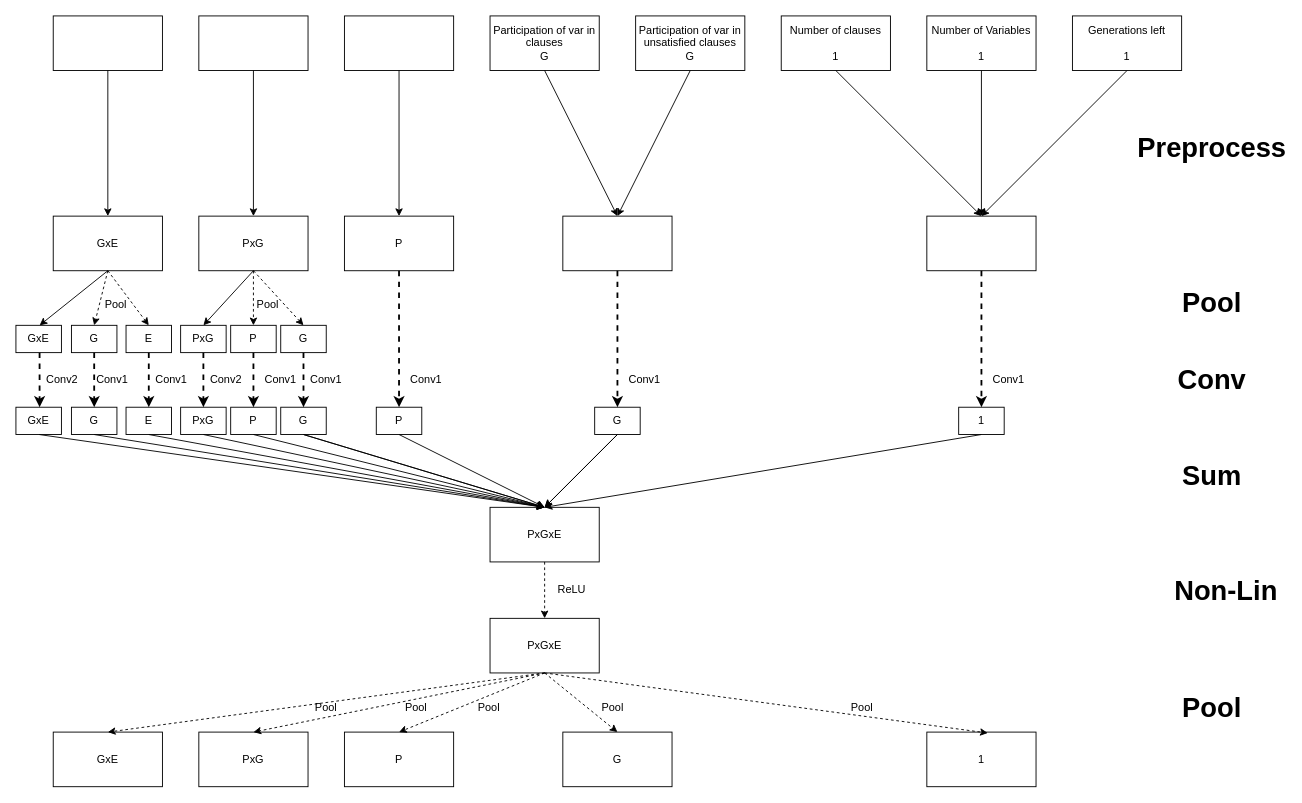
The diagram is 1302 pixels wide and 803 high, and some of its shapes have lost their labels. The centre of each missing label's shape, as x and y in pixels:
"(2x) G" goes at point 617,243.
"(3x) 1" goes at point 981,243.
"Fitness per Individual P" goes at point 399,43.
"Genome per Individual (2x)PxG" goes at point 253,43.
"Problem Instance (2x)GxE" goes at point 107,43.
